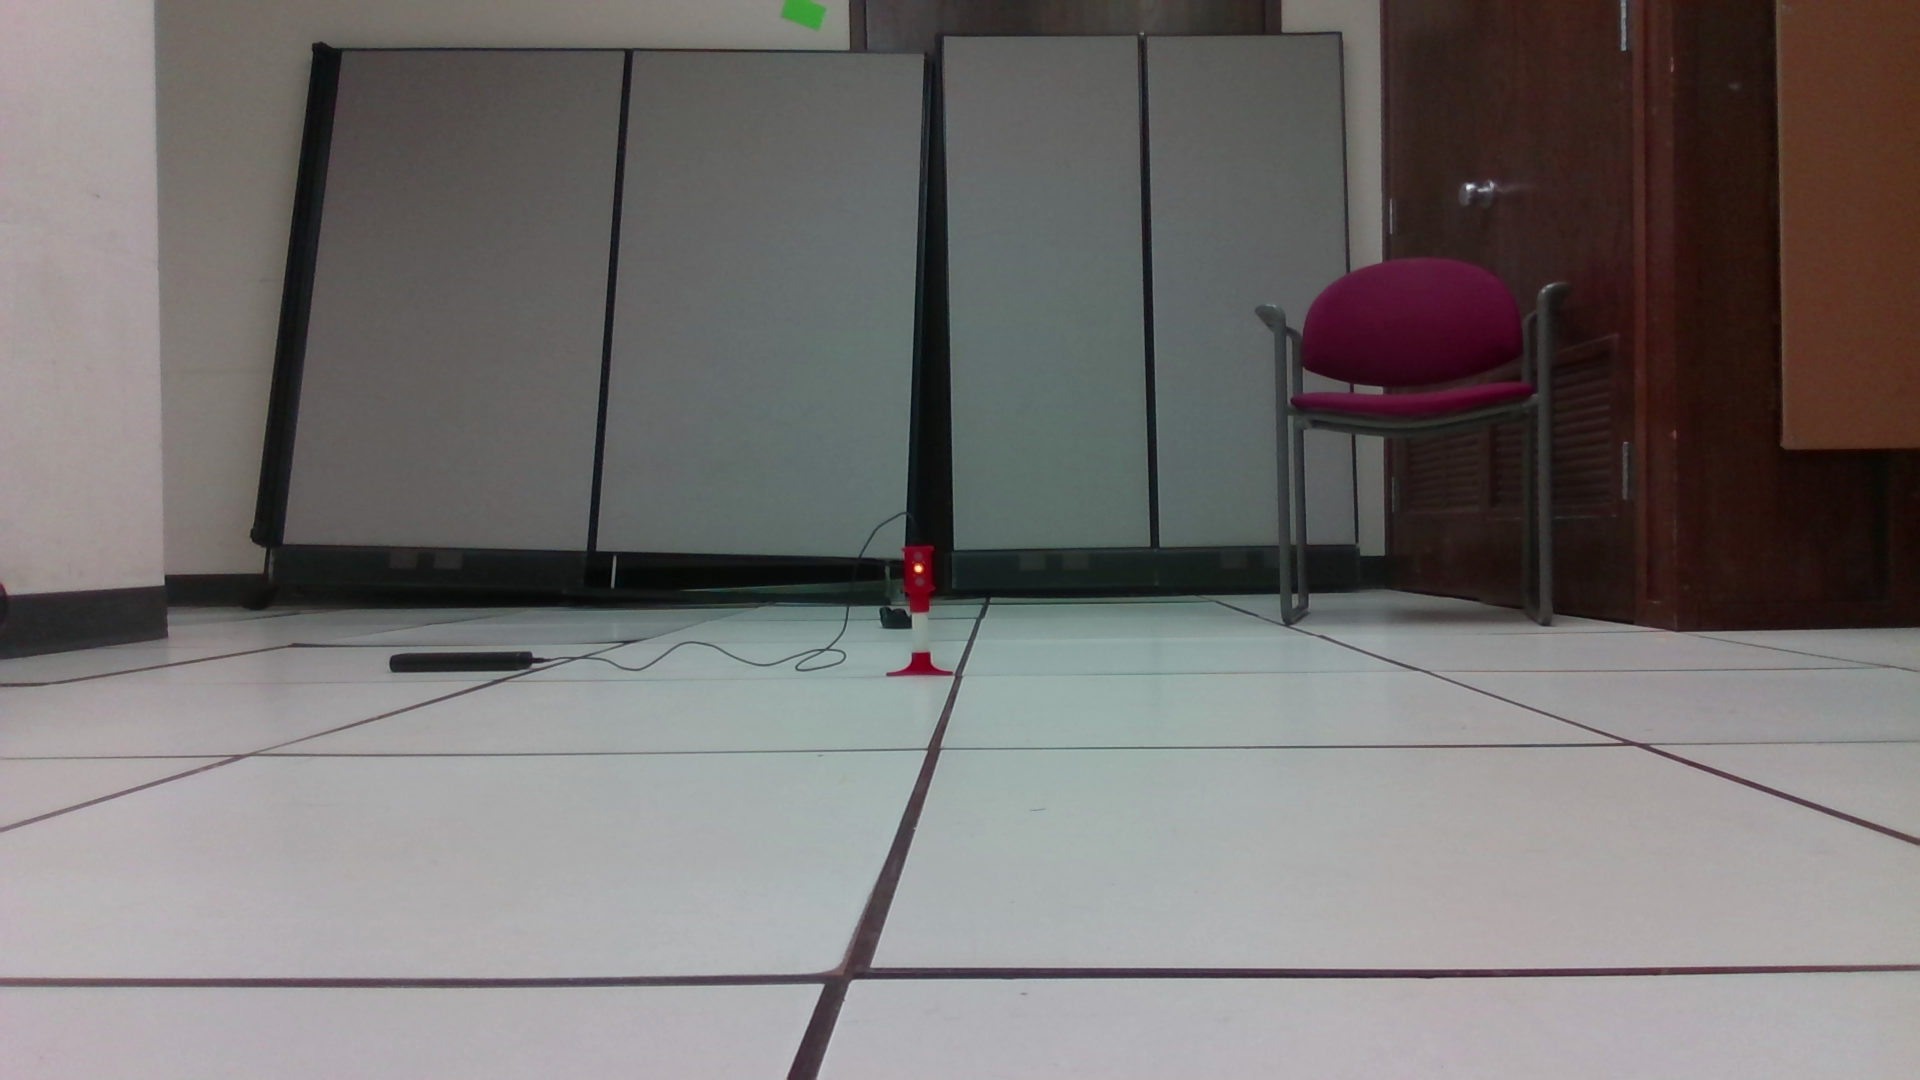stoplight: (902, 545, 938, 611)
